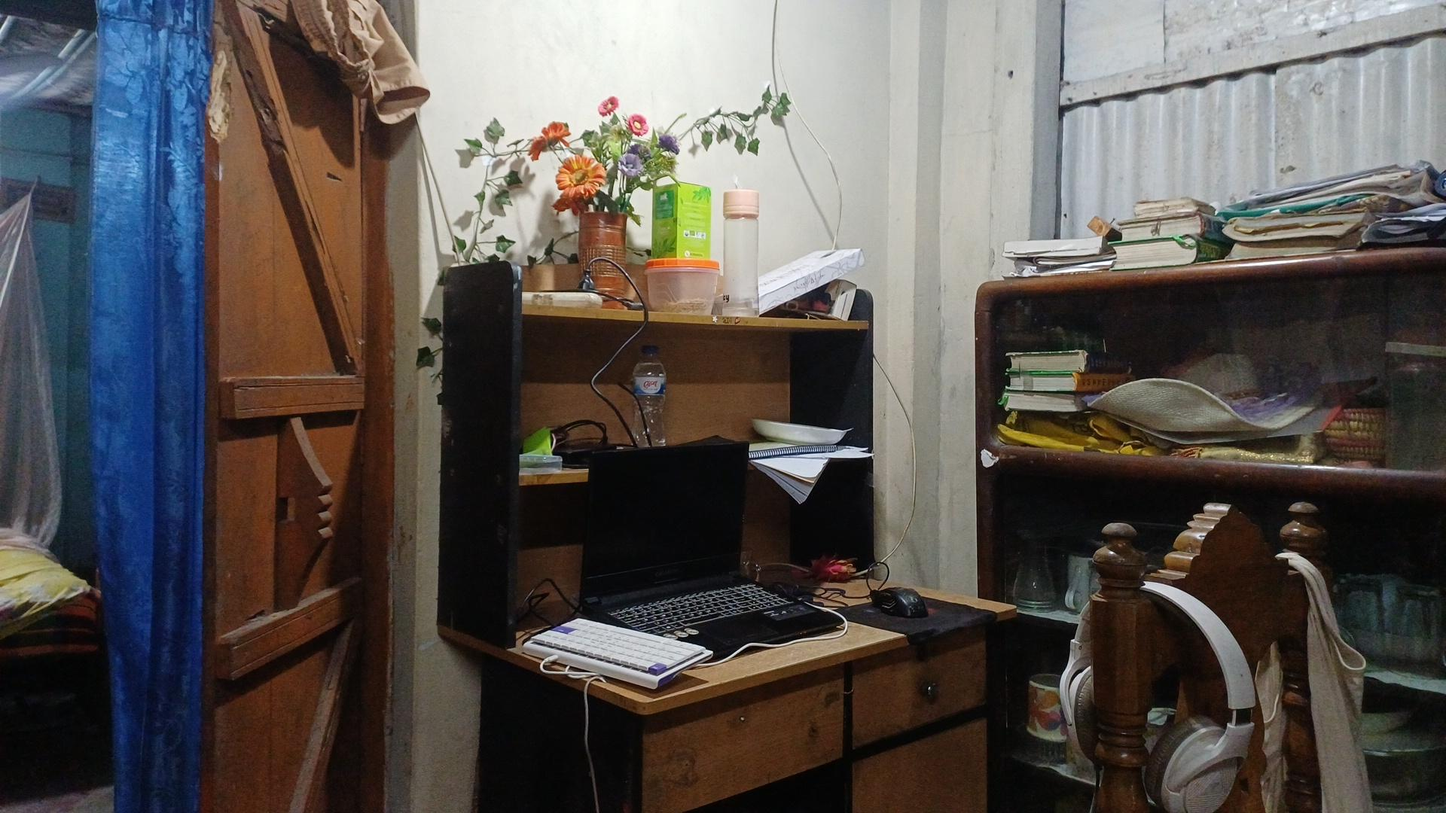Book: (991, 336, 1106, 425), (1234, 205, 1383, 267), (1108, 187, 1208, 278)
Bottle: (713, 183, 766, 322), (637, 336, 678, 441)
Box: (749, 253, 898, 300), (650, 173, 712, 254)
Door: (136, 61, 419, 786)
Drawer: (826, 676, 1035, 768)
Food: (655, 259, 712, 309)
Keyboard: (516, 600, 703, 697)
Laptop: (571, 440, 834, 643)
Mouse: (865, 572, 927, 621)
Plant: (530, 108, 639, 304)
Plate: (747, 406, 859, 446)
